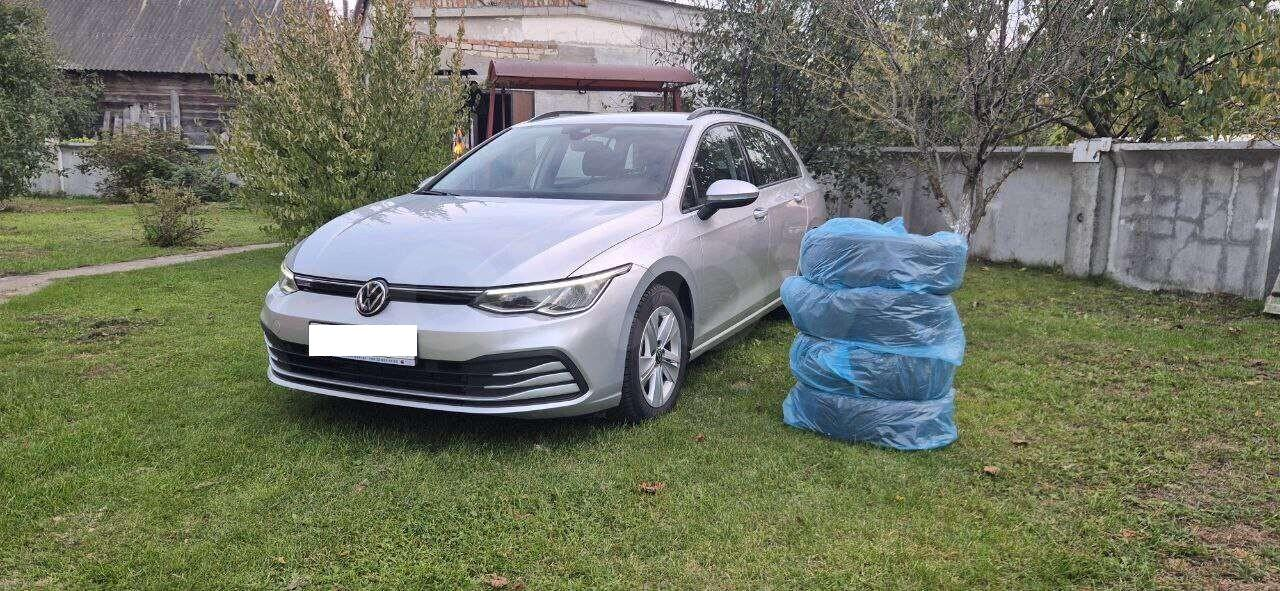Golf_2019: (255, 106, 830, 422)
